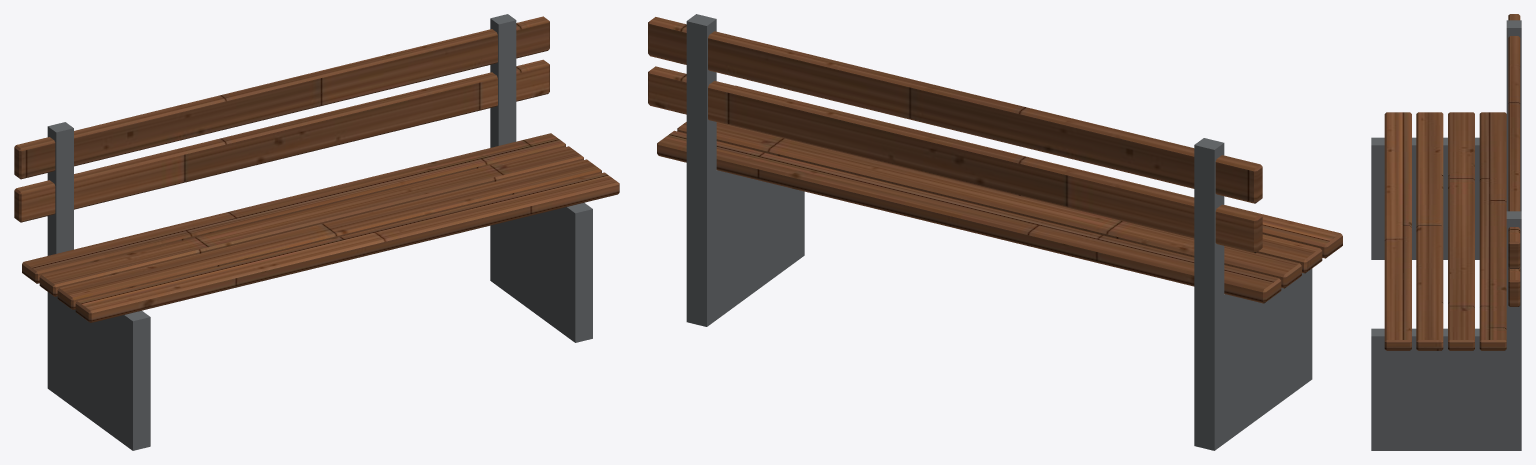
Rendered from bench.glb.
3 renders of one model, left to right at view 1: azimuth 30°, elevation 25°; view 2: azimuth 150°, elevation 25°; view 3: azimuth 270°, elevation 25°, orthographic. The views are drawn at different scales.
Visible parts, largest first — view 1: bench_wood, bench_iron; view 2: bench_wood, bench_iron; view 3: bench_wood, bench_iron.
Boxes of the visible parts, <box> form: bench_wood: <box>14,16,619,322</box>; bench_iron: <box>47,14,592,450</box>; bench_wood: <box>648,17,1342,303</box>; bench_iron: <box>686,14,1312,450</box>; bench_wood: <box>1384,14,1520,350</box>; bench_iron: <box>1371,20,1521,450</box>.
Size of the model in its own units: 1.8 by 0.85 by 0.5.
Materials: 2 (1 with a texture image).
